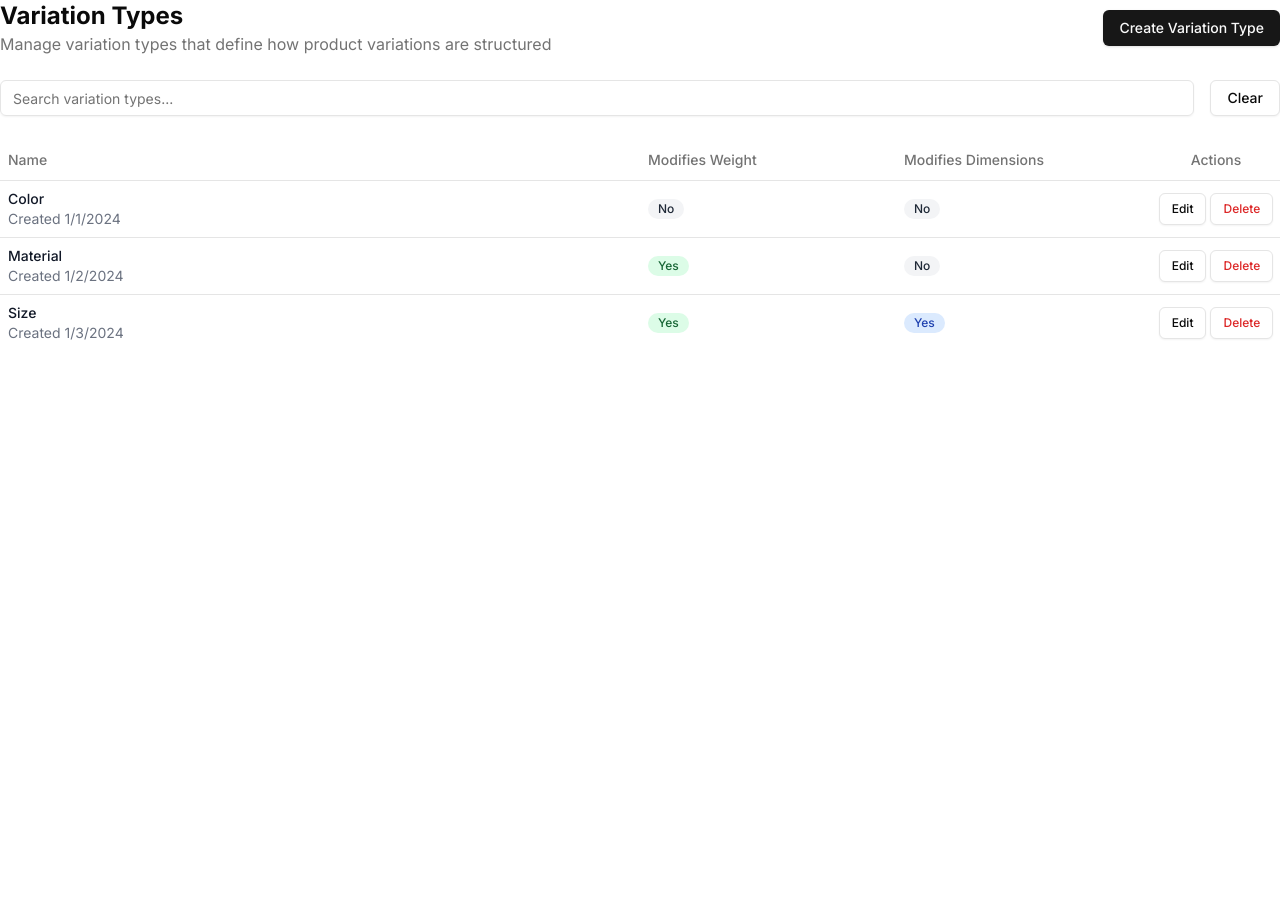
Scenario: VariationTypeList › opens delete confirmation when delete button is clicked
Click the button "Delete" in the row of "Color". click: (1242,208)
box: [1210, 192, 1273, 224]
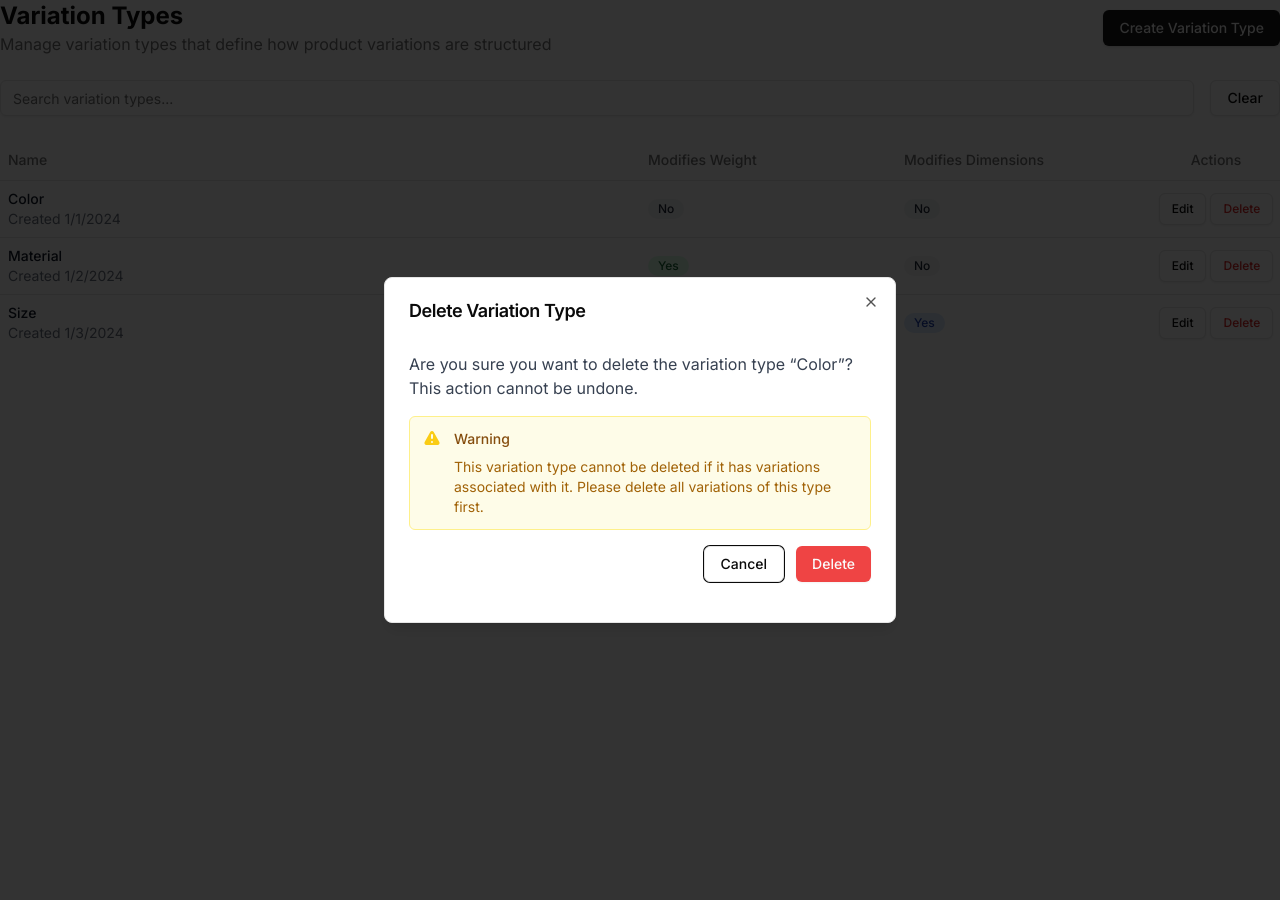
Check: the heading "Delete Variation Type" is shown, box [409, 300, 585, 321]
